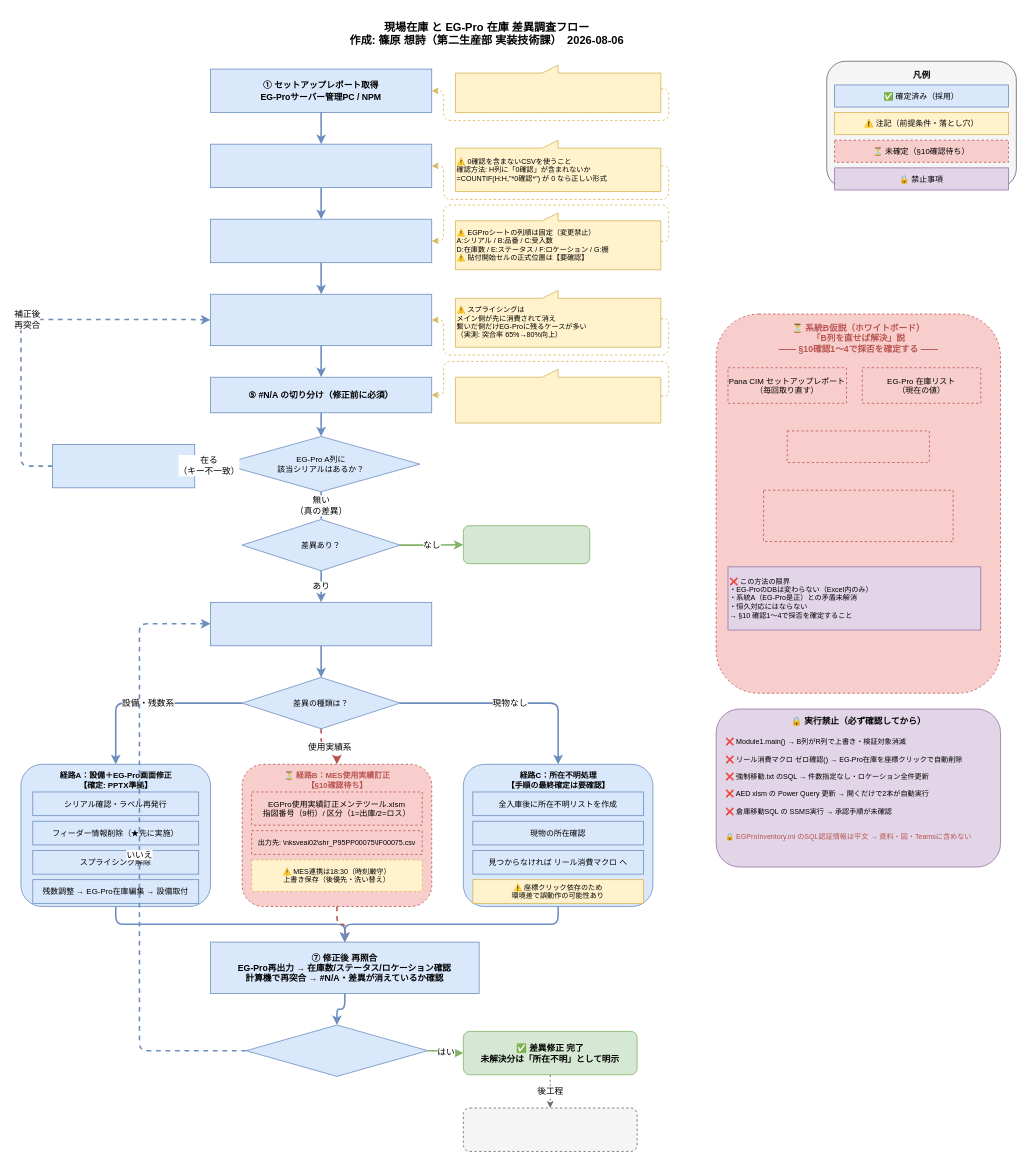
This 1030x1165 diagram has some shape labels left out. The shapes that lost their labels are listed below. From the top down, each one's centre as x and y in pixels, then its label:
At point 558,88: "⚠️ セットアップレポートとEG-Pro CSVは 必ず同日・同時刻に取得すること （3日ズレで160件が照合不能・実測）".
At point 321,165: "② EG-Pro在庫CSV取得 第二生産部生産一課一係ノートブック経由".
At point 321,240: "③ セットアップレポート計算機.xlsm へ貼付 [セットアップレポート]シート / [EGPro]シート".
At point 321,319: "④ 品番コードをキーに XLOOKUP 突合 メインリール＋スプライシングリール 両方対象 → ロケーション / 在庫数 / 受入数 を取得".
At point 558,396: "⚠️ #N/A は「在庫ゼロ」ではない キー不一致（空白・桁数・全半角）による 偽エラーの可能性あり → 修正対象に混ぜる前に必ず切り分ける".
At point 123,466: "キー補正で解消 （空白トリム・桁数・全半角修正） → 真の差異ではない → 再突合".
At point 857,446: "各製品群で突合 キー: 部品コード（品番）".
At point 858,515: "不足部品リスト B列を上書き 製品a/b/c 何台製造 Aという部品は合計X個使う → 足りなければ出庫してリスト".
At point 526,544: "✅ 差異確認 終了".
At point 321,624: "⑥ 差異候補を抽出 #N/A（真）/ 在庫数0 / ロケーション空欄".
At point 336,1050: "処理可能な差異ゼロ？".
At point 550,1129: "【後工程・本件対象外】 棚卸し説明表の作成".
